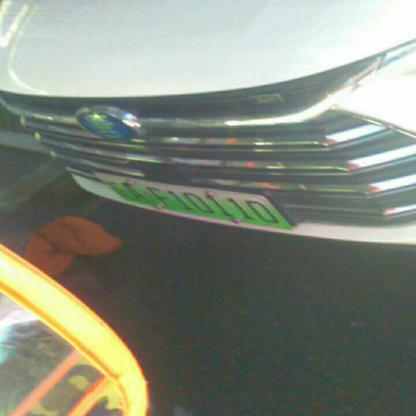lp: (96, 173, 292, 230)
